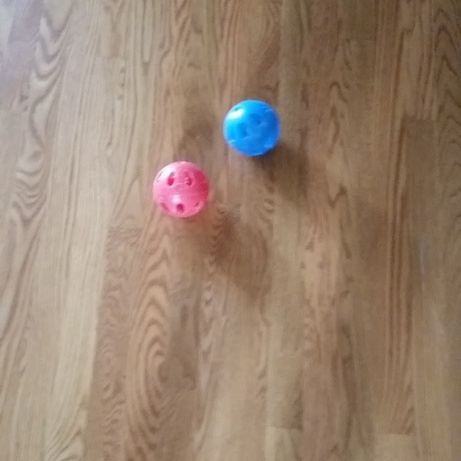blueball: (220, 95, 283, 159)
redball: (151, 159, 210, 219)
